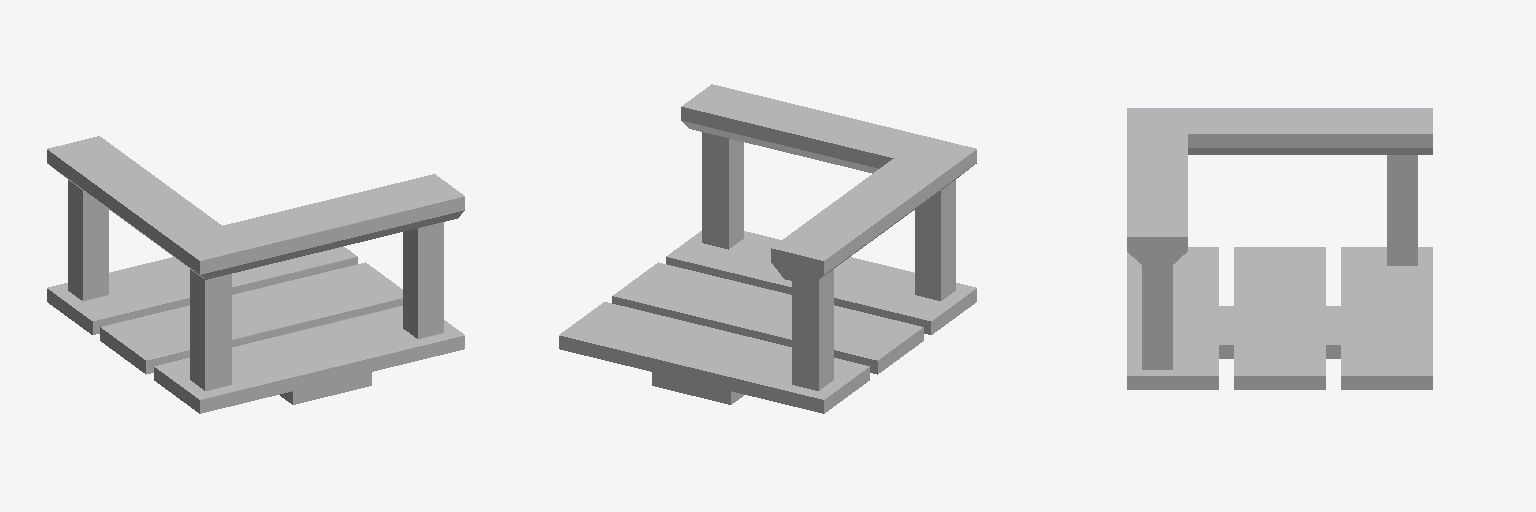
File: scaffold_small_low_cornerRight.obj
3 renders of one model, left to right at view 1: azimuth 30°, elevation 25°; view 2: azimuth 150°, elevation 25°; view 3: azimuth 270°, elevation 25°, orthographic.
Parts seen in each view (by area): view 1: scaffold_small_low_cornerRight_Cube.2893; view 2: scaffold_small_low_cornerRight_Cube.2893; view 3: scaffold_small_low_cornerRight_Cube.2893.
Part boxes in pixels (bbox=[...]): scaffold_small_low_cornerRight_Cube.2893: bbox=[47, 136, 464, 413]; scaffold_small_low_cornerRight_Cube.2893: bbox=[559, 84, 976, 413]; scaffold_small_low_cornerRight_Cube.2893: bbox=[1127, 108, 1432, 389].
Size of the model in its own units: 2 by 1.2 by 2.